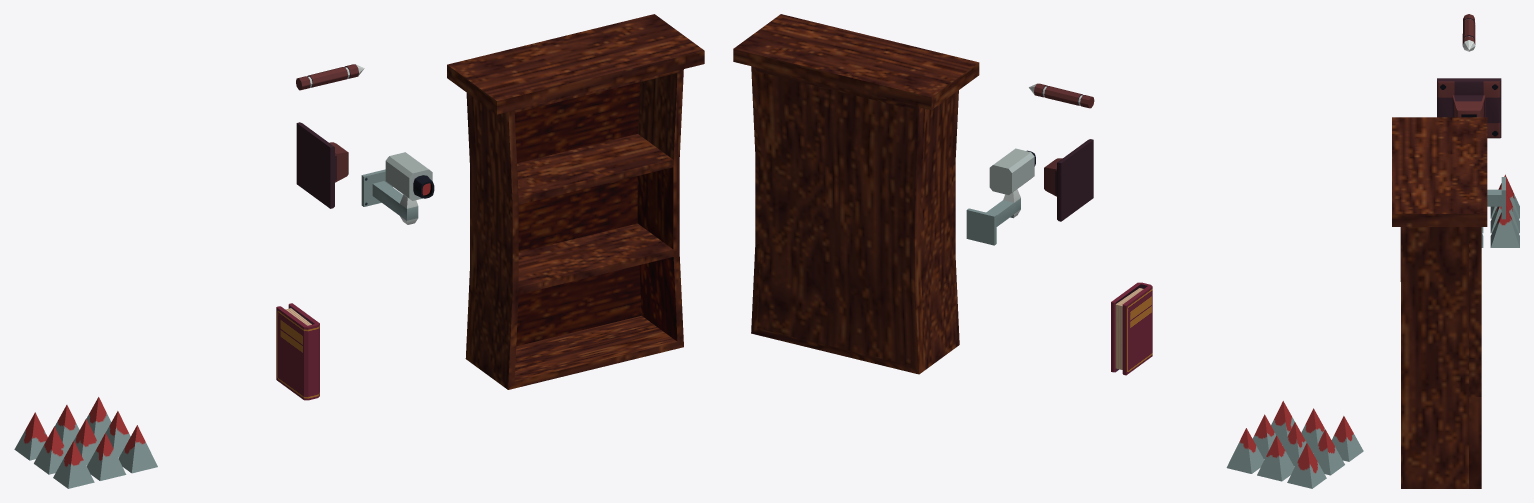
Rendered from DungeonProps1.fbx.
3 renders of one model, left to right at view 1: azimuth 30°, elevation 25°; view 2: azimuth 150°, elevation 25°; view 3: azimuth 270°, elevation 25°, orthographic. The views are drawn at different scales.
Visible parts, largest first — view 1: Shelf, Cube, ThickBook, ProjectileTrap, SecurityCameraHead, SecurityCameraHolder, Projectile; view 2: Shelf, Cube, ThickBook, ProjectileTrap, SecurityCameraHolder, SecurityCameraHead, Projectile; view 3: Shelf, ProjectileTrap, Cube, Projectile, SecurityCameraHolder.
Boxes of the visible parts, x1,y1,x2,y2 form: Shelf: [447, 14, 704, 389]; Cube: [14, 397, 157, 488]; ThickBook: [276, 303, 319, 400]; ProjectileTrap: [296, 122, 348, 208]; SecurityCameraHead: [385, 152, 434, 200]; SecurityCameraHolder: [361, 169, 418, 224]; Projectile: [296, 64, 364, 90]; Shelf: [733, 14, 979, 374]; Cube: [1226, 401, 1363, 488]; ThickBook: [1111, 282, 1152, 375]; ProjectileTrap: [1044, 139, 1093, 221]; SecurityCameraHolder: [966, 189, 1020, 245]; SecurityCameraHead: [989, 148, 1035, 194]; Projectile: [1029, 83, 1094, 108]; Shelf: [1392, 117, 1487, 488]; ProjectileTrap: [1437, 78, 1501, 138]; Cube: [1481, 174, 1519, 247]; Projectile: [1462, 14, 1475, 51]; SecurityCameraHolder: [1487, 177, 1505, 219].
Bounding box in the file's own units: 461 × 232 × 85.97.
